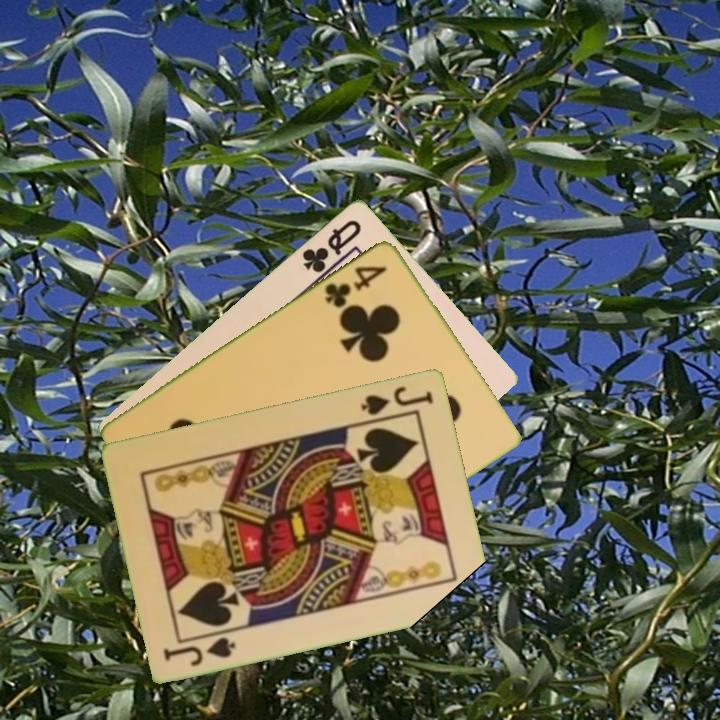4c: (321, 261, 390, 311)
Js: (357, 382, 437, 418), (160, 633, 239, 669)
Qc: (298, 215, 365, 276)
